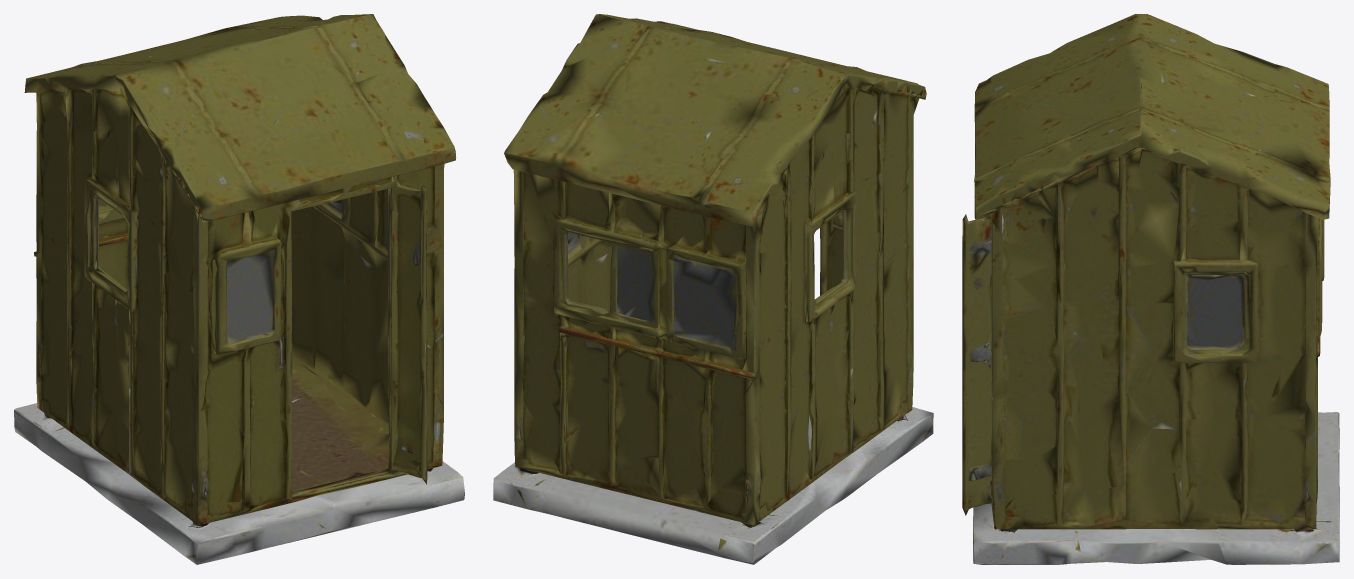
The model's file is nobet_kulubesi.glb.
3 renders of one model, left to right at view 1: azimuth 30°, elevation 25°; view 2: azimuth 150°, elevation 25°; view 3: azimuth 270°, elevation 25°, orthographic. The views are drawn at different scales.
Visible parts, largest first — view 1: kok; view 2: kok; view 3: kok.
Part boxes in pixels (left/top/right/bottom): kok: left=14, top=14, right=464, bottom=564; kok: left=493, top=14, right=933, bottom=564; kok: left=962, top=14, right=1339, bottom=564.
Bounding box in the file's own units: 1.58 × 2.4 × 1.92.
Materials: 1 (1 with a texture image).
